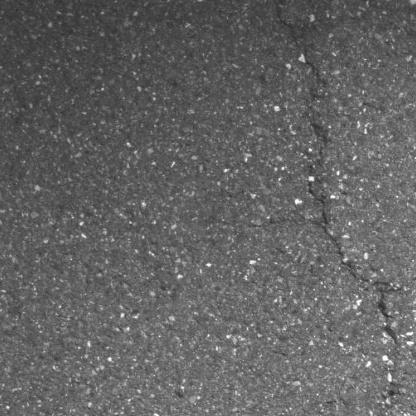Cracks: (246, 0, 416, 349), (372, 368, 399, 416), (409, 398, 416, 416)
